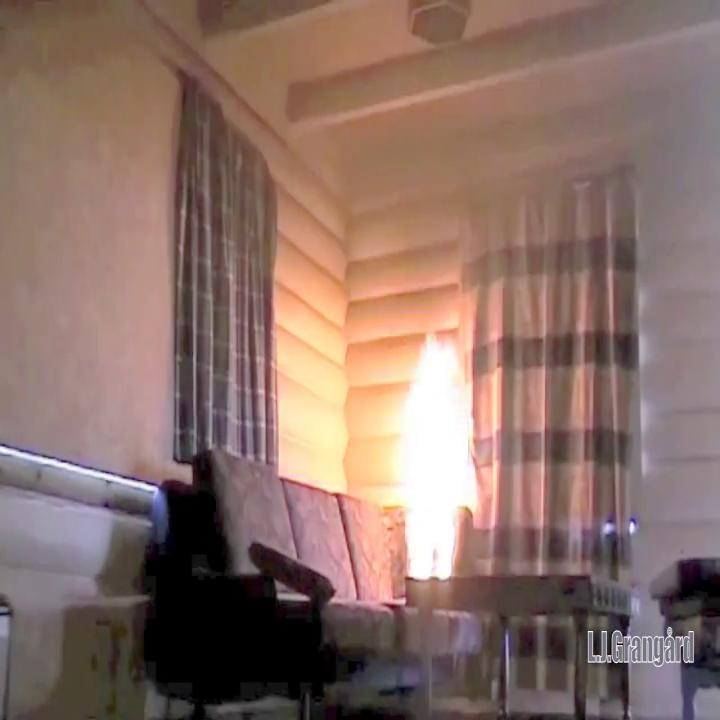fire: (391, 325, 481, 592)
